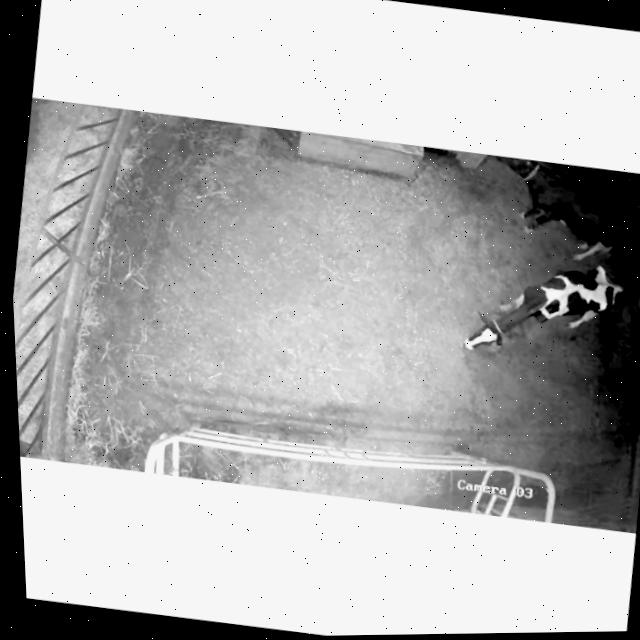stand: (444, 240, 637, 387), (479, 151, 640, 268)
